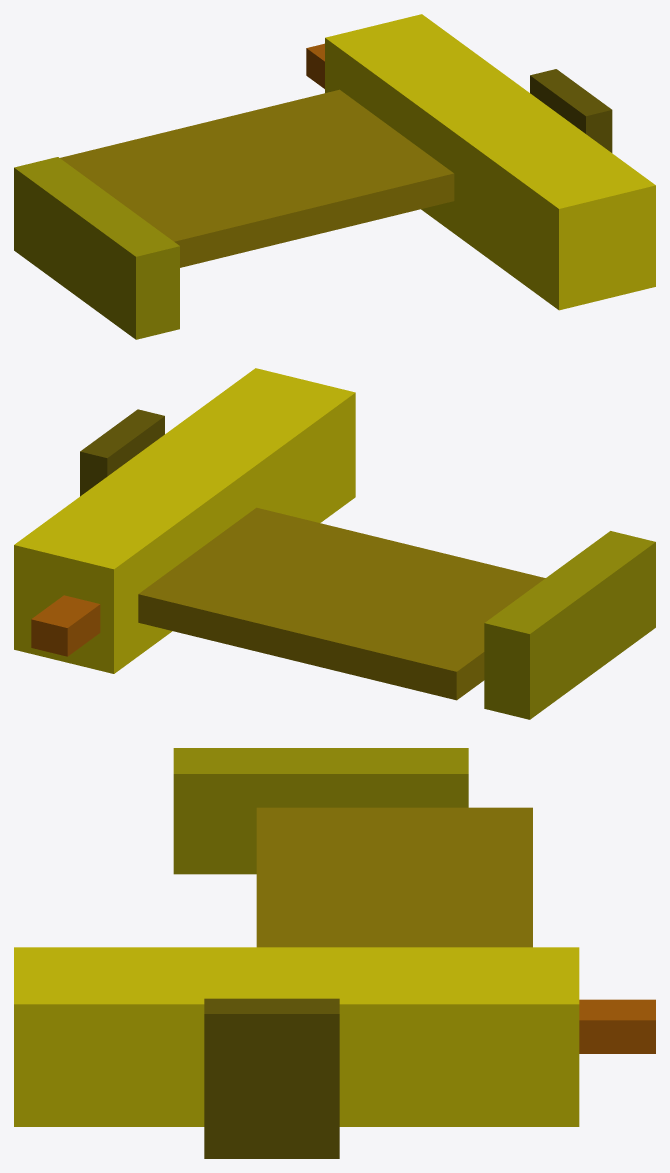
File: prop-lantern.glb
3 renders of one model, top to bottom at view 1: azimuth 30°, elevation 25°; view 2: azimuth 150°, elevation 25°; view 3: azimuth 270°, elevation 25°, orthographic. The views are drawn at different scales.
Parts seen in each view (by area): view 1: samurai; view 2: samurai; view 3: samurai.
Boxes of the visible parts, box(x1,y1,x2,y2) form: samurai: box(14, 14, 655, 339); samurai: box(14, 368, 655, 719); samurai: box(14, 748, 655, 1158).
Size of the model in its own units: 1.11 by 0.26 by 1.05.
